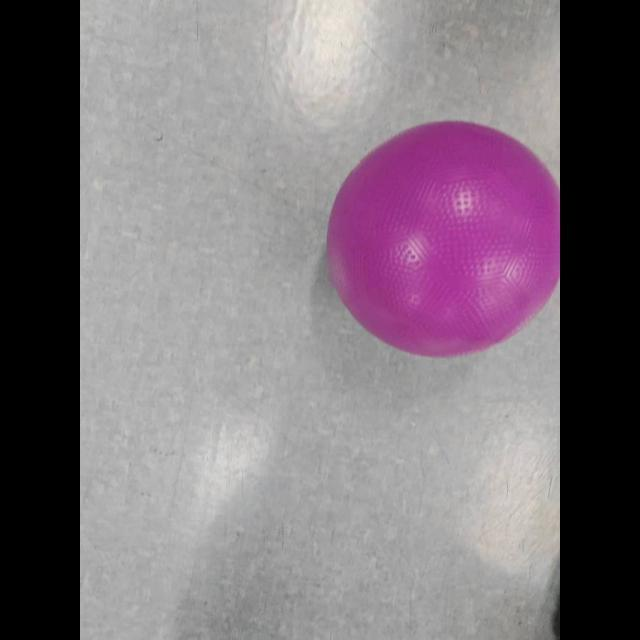P: (322, 119, 560, 361)
